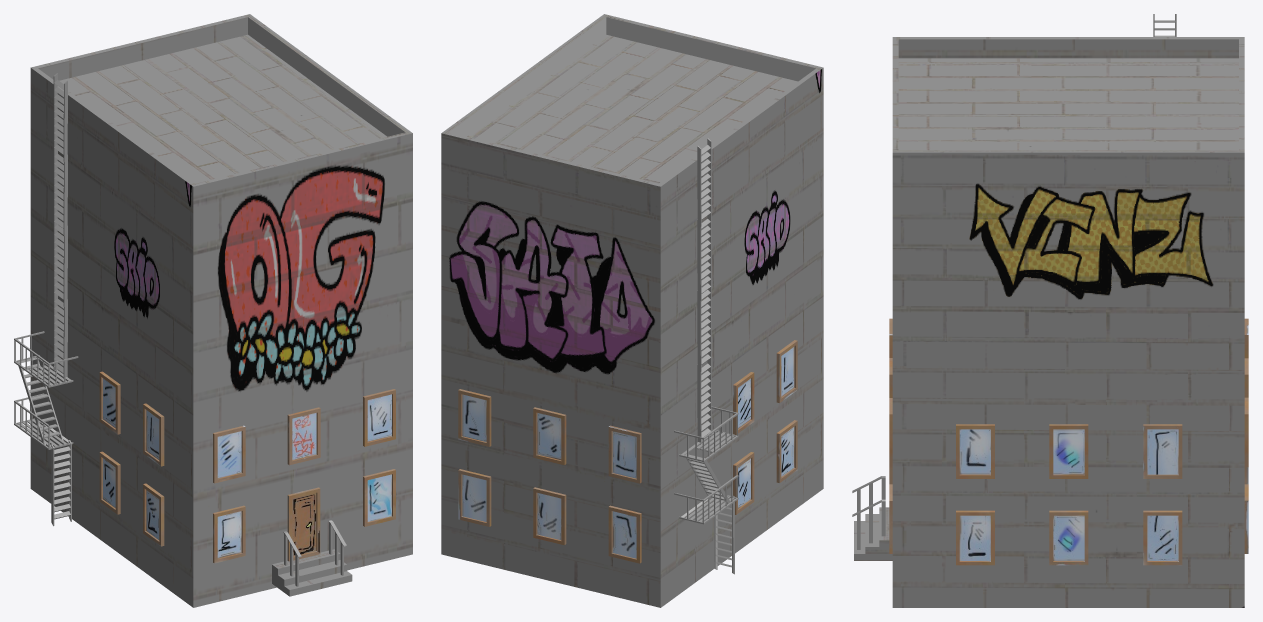
The model's file is type3building_1.fbx.
3 renders of one model, left to right at view 1: azimuth 30°, elevation 25°; view 2: azimuth 150°, elevation 25°; view 3: azimuth 270°, elevation 25°, orthographic. The views are drawn at different scales.
Visible parts, largest first — view 1: Cube.012; view 2: Cube.012; view 3: Cube.012.
Boxes of the visible parts, box(x1,y1,x2,y2) form: Cube.012: box(14, 14, 412, 607); Cube.012: box(441, 14, 823, 607); Cube.012: box(852, 14, 1248, 607).
Bounding box in the file's own units: 1610 × 2682 × 2024.
